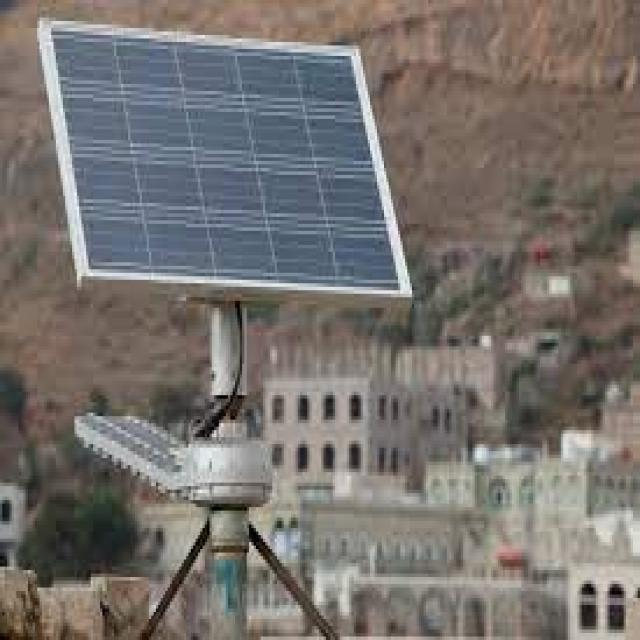no faulty: (49, 27, 409, 289)
